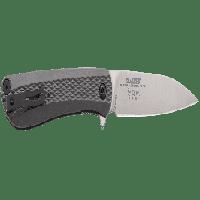knife: (1, 63, 198, 134)
